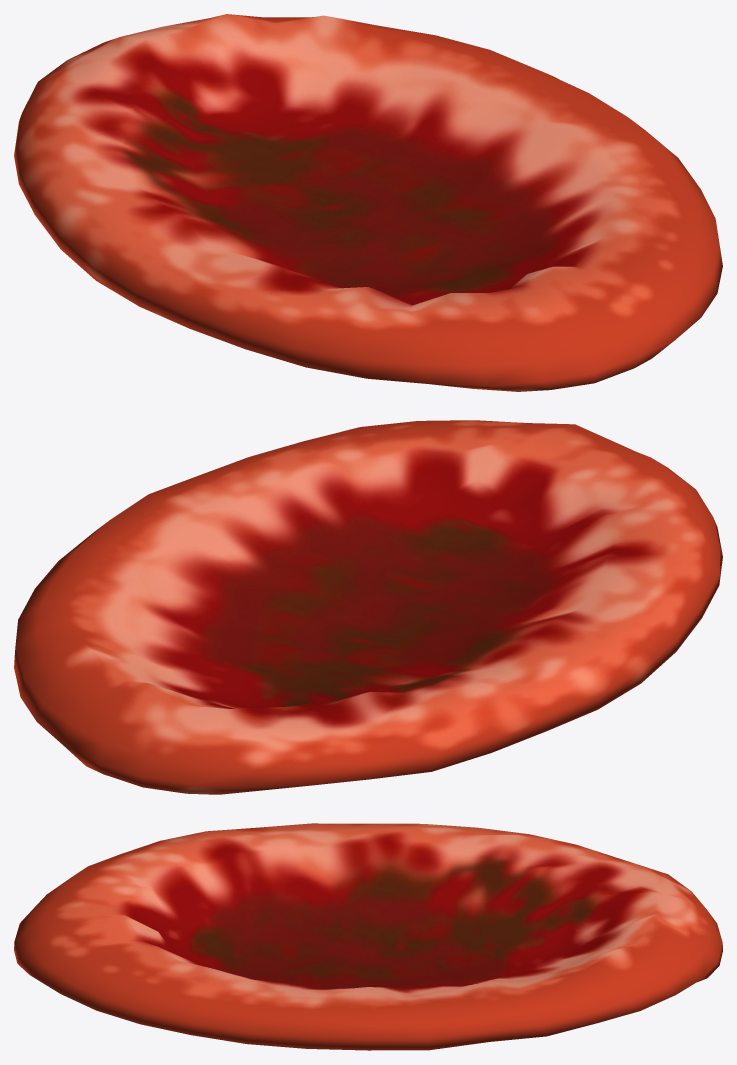
Rendered from herida.FBX.
The picture shows the model from 3 angles, top to bottom: view 1: azimuth 30°, elevation 25°; view 2: azimuth 150°, elevation 25°; view 3: azimuth 270°, elevation 25°; orthographic projection. The views are drawn at different scales.
Visible parts, largest first — view 1: Cylinder002; view 2: Cylinder002; view 3: Cylinder002.
Boxes of the visible parts, x1,y1,x2,y2 form: Cylinder002: (14,14,722,391); Cylinder002: (14,420,722,794); Cylinder002: (14,823,722,1050).
Bounding box in the file's own units: 48.88 × 7.05 × 69.66.
